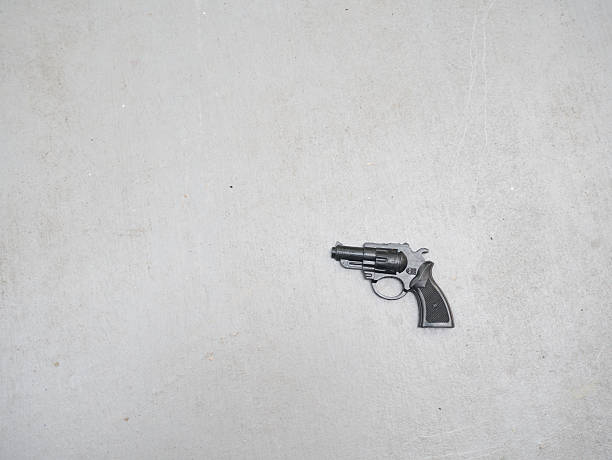pistol: (328, 237, 459, 333)
